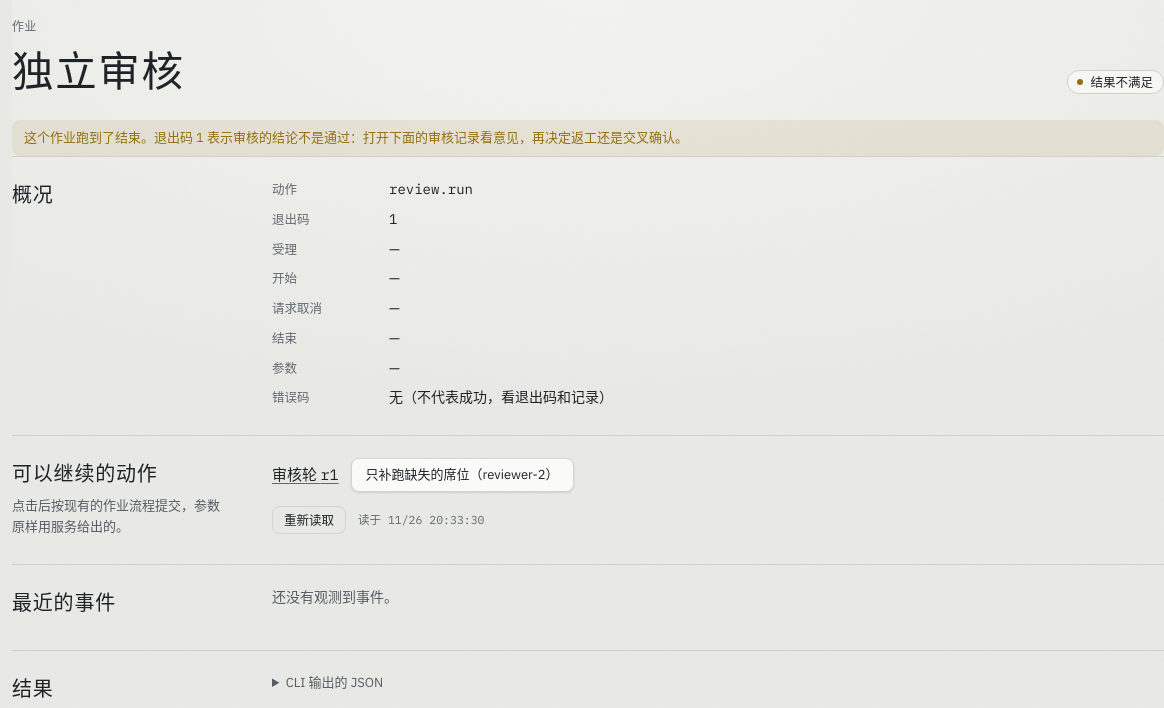
Test: 作业进展和恢复 › does not offer an old recovery again while the activity is being read after the retry
Step 1. Click the button "只补跑缺失的席位（reviewer-2）" → (462, 475), box [351,458,574,492]
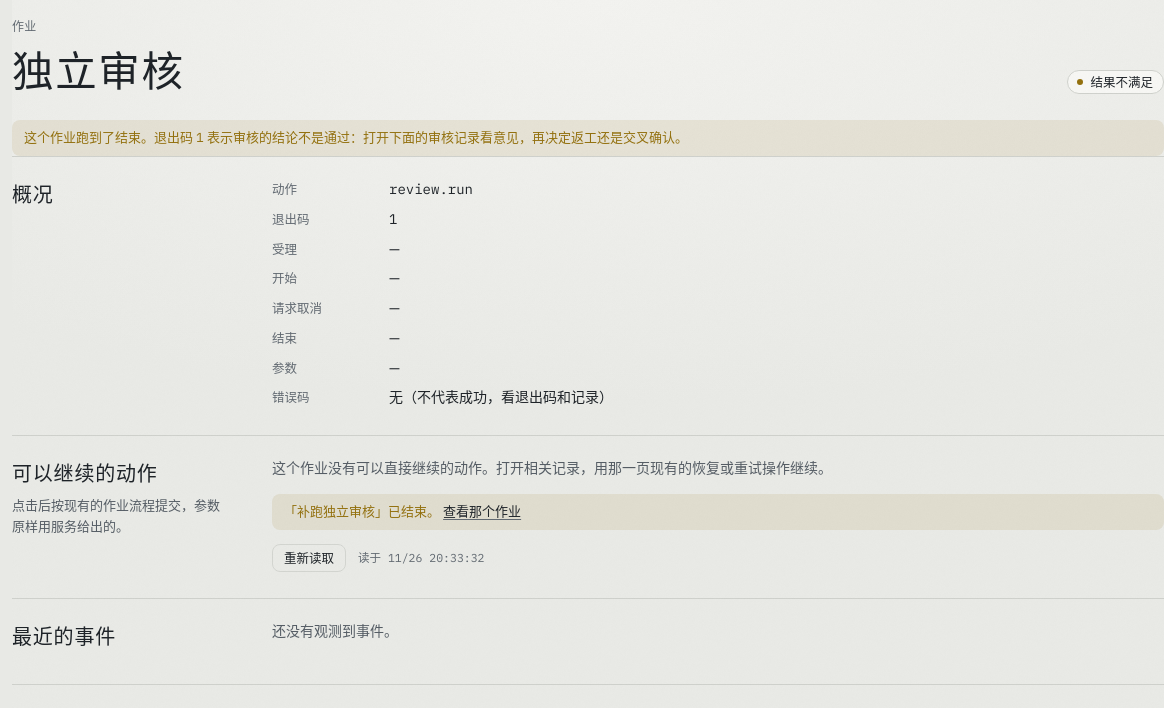
expect the button "只补跑缺失的席位（reviewer-2）" is gone: met
